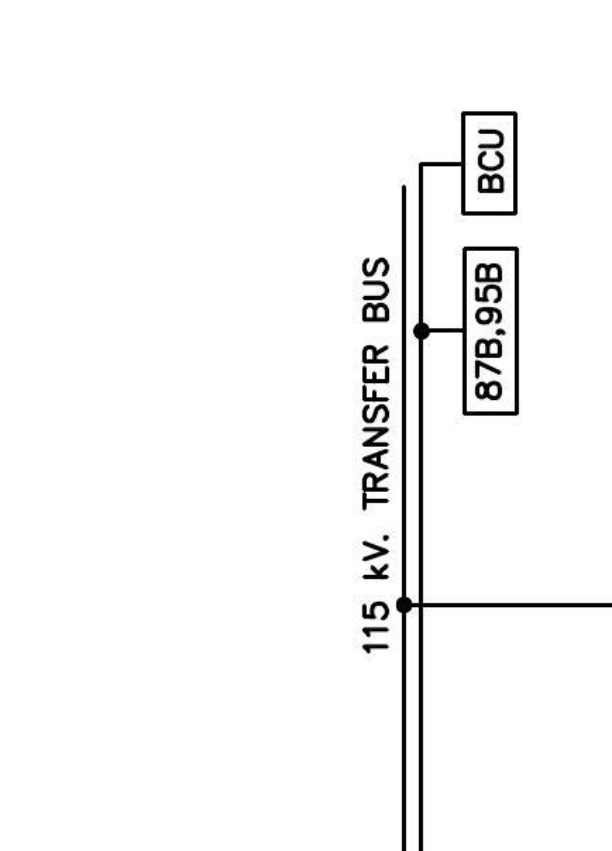BCU: (460, 110, 519, 217)
